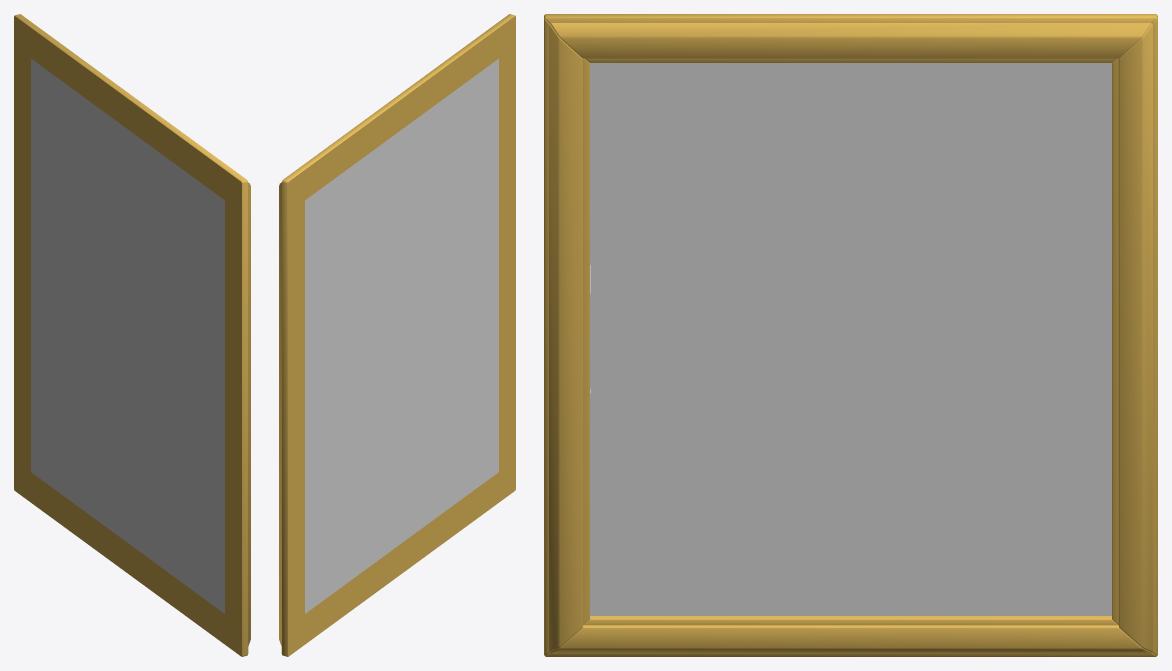
The model's file is mirror.fbx.
The picture shows the model from 3 angles, left to right: view 1: azimuth 30°, elevation 25°; view 2: azimuth 150°, elevation 25°; view 3: azimuth 270°, elevation 25°; orthographic projection. The views are drawn at different scales.
Parts seen in each view (by area): view 1: FrameIn, Frame; view 2: FrameIn, Frame; view 3: MirrorAll, Frame.
Boxes of the visible parts, box(x1,y1,x2,y2) form: FrameIn: box(31, 59, 224, 613); Frame: box(14, 14, 250, 656); FrameIn: box(305, 58, 498, 613); Frame: box(279, 14, 515, 656); MirrorAll: box(590, 63, 1111, 615); Frame: box(544, 14, 1157, 656).
Size of the model in its own units: 3.74 by 115 by 100.
